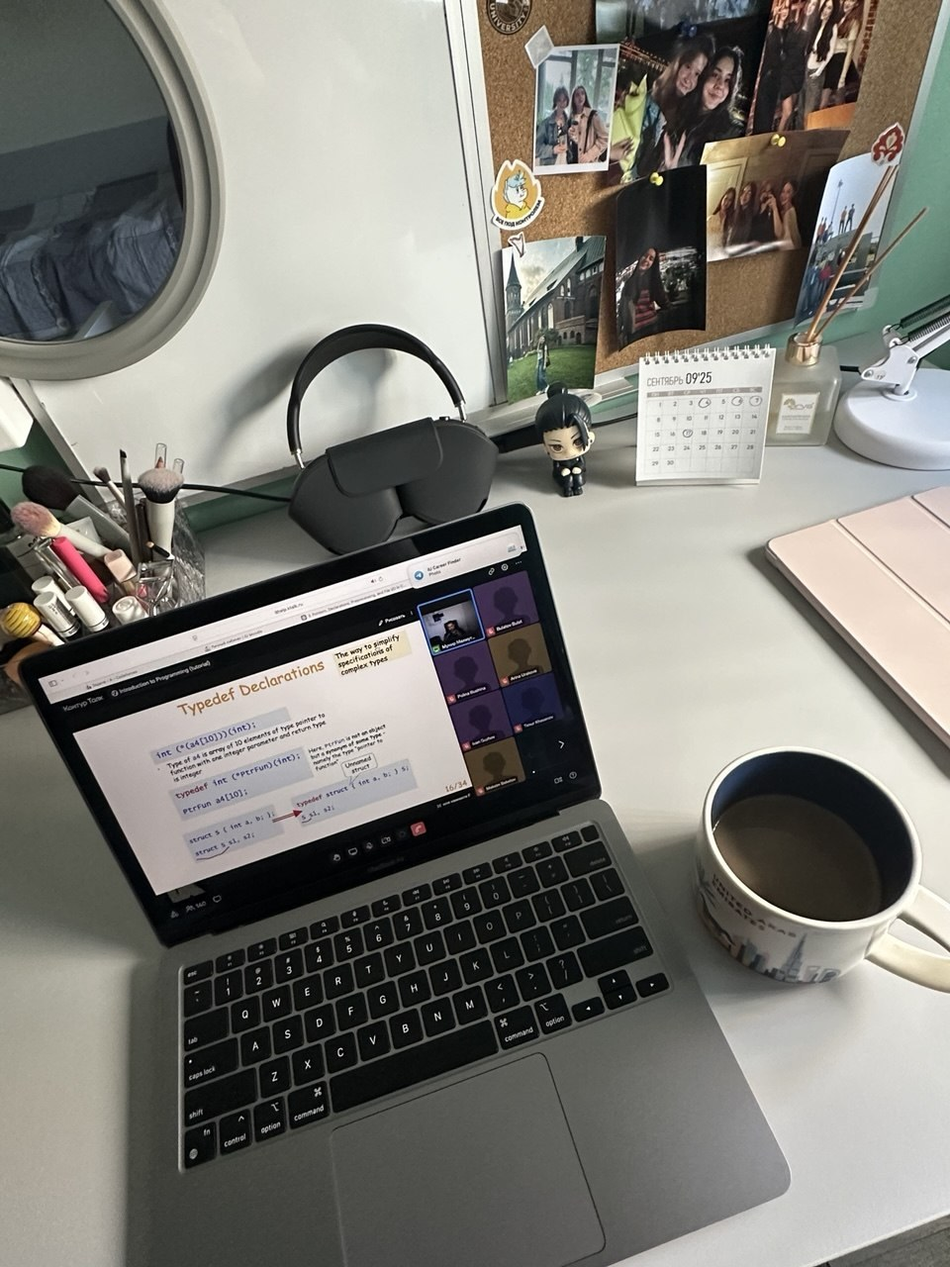laptop: (18, 500, 792, 1264)
